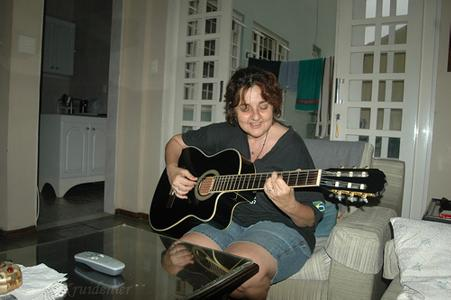person: (165, 67, 327, 300)
